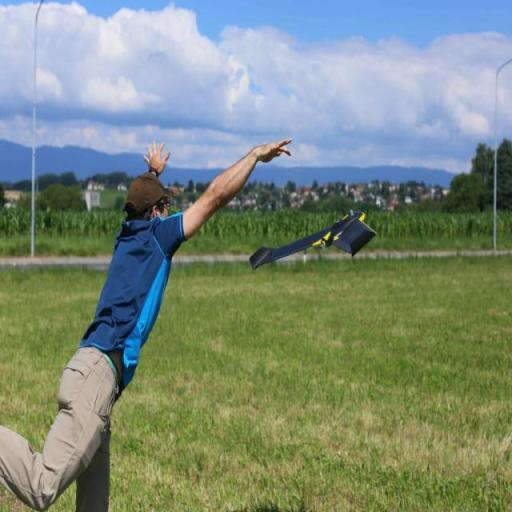uav: (236, 205, 381, 270)
